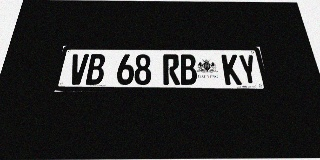6: (116, 54, 135, 85)
8: (134, 54, 151, 85)
B: (85, 54, 106, 85), (179, 54, 198, 85)
K: (221, 54, 242, 85)
R: (163, 54, 180, 85)
V: (68, 54, 89, 85)
Y: (238, 55, 259, 85)
